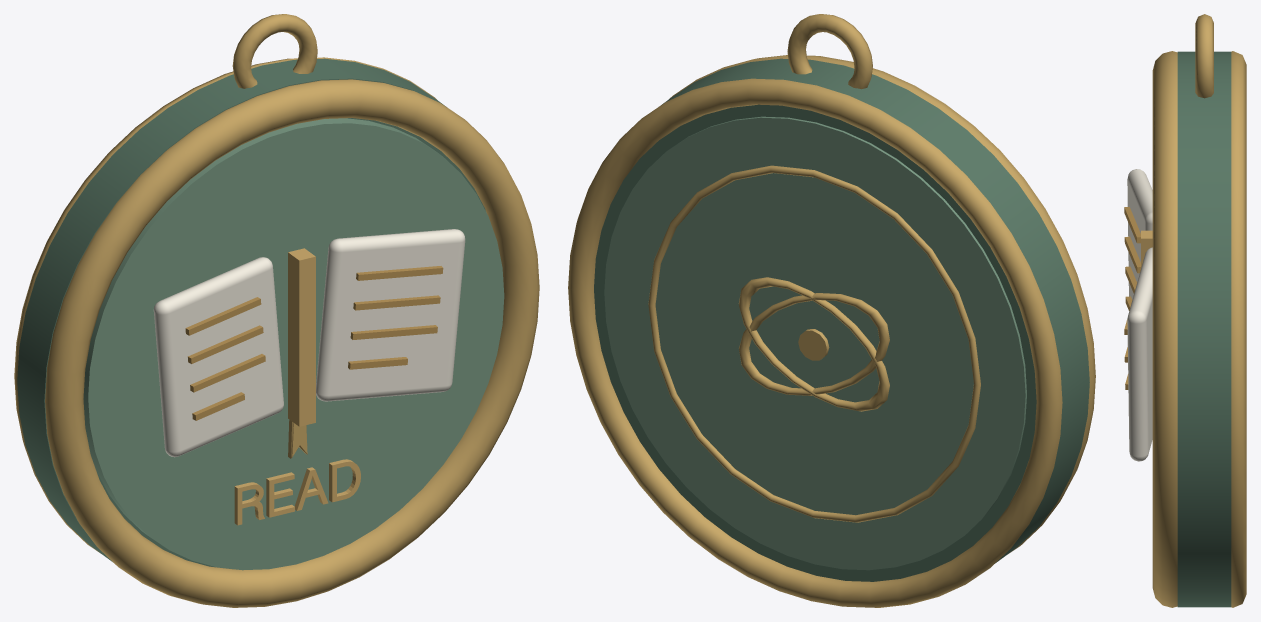
The model's file is reading.glb.
3 renders of one model, left to right at view 1: azimuth 30°, elevation 25°; view 2: azimuth 150°, elevation 25°; view 3: azimuth 270°, elevation 25°, orthographic. The views are drawn at different scales.
Visible parts, largest first — view 1: base-inner, base-rim, relief-page-sheet (×2), base-body, relief-page-lines (×2), relief-spine, relief-label, base-loop, base-back-rim; view 2: base-back-inner, base-back-rim, base-body, base-back-hallmark, base-rim, base-loop; view 3: base-body, base-rim, base-back-rim, relief-page-sheet (×2), base-loop, relief-page-lines, relief-spine.
Boxes of the visible parts, box(x1,y1,x2,y2) form: base-inner: box(83, 118, 504, 570); base-rim: box(45, 79, 539, 607); relief-page-sheet (×2): box(153, 229, 465, 457); base-body: box(17, 58, 485, 569); relief-page-lines (×2): box(185, 266, 443, 420); relief-spine: box(288, 248, 315, 426); relief-label: box(234, 459, 360, 525); base-loop: box(232, 14, 317, 88); base-back-rim: box(14, 57, 436, 552); base-back-inner: box(604, 116, 1026, 570); base-back-rim: box(568, 78, 1062, 607); base-body: box(594, 58, 1089, 581); base-back-hallmark: box(648, 165, 980, 522); base-rim: box(669, 55, 1095, 553); base-loop: box(787, 14, 872, 89); base-body: box(1177, 51, 1231, 607); base-rim: box(1152, 51, 1177, 607); base-back-rim: box(1231, 51, 1246, 607); relief-page-sheet (×2): box(1127, 169, 1152, 461); base-loop: box(1195, 14, 1213, 98); relief-page-lines: box(1124, 207, 1140, 310); relief-spine: box(1141, 230, 1152, 268).
Size of the model in its own units: 1.54 by 1.72 by 0.3386.
